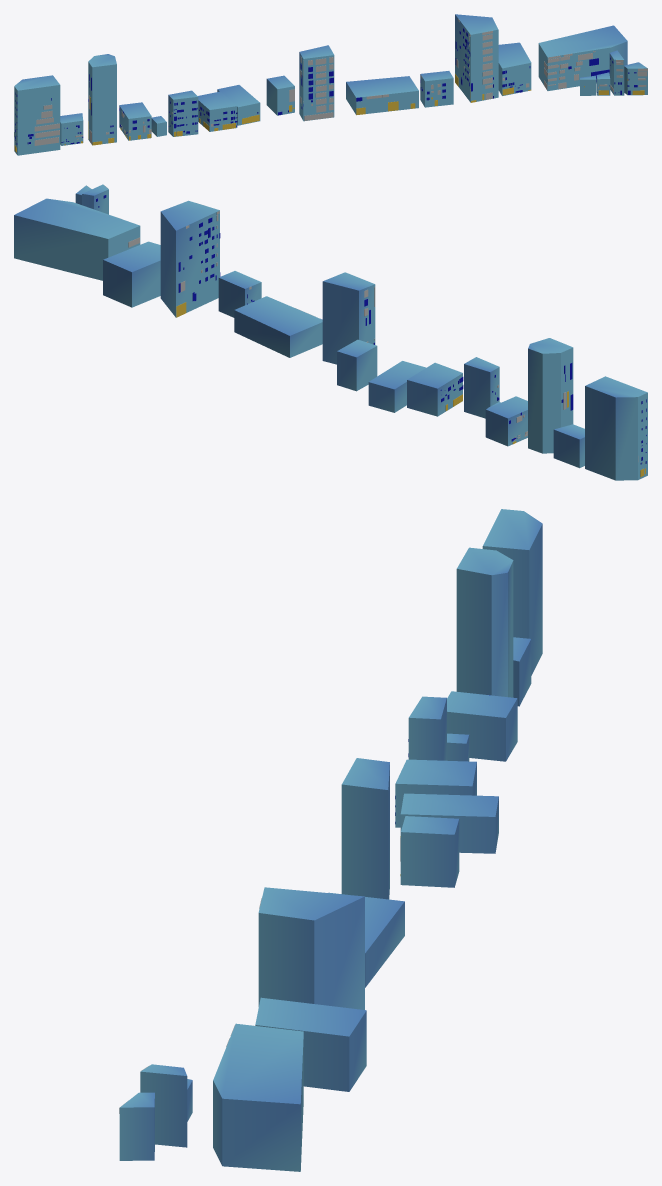
Rendered from akabane_lod3_route1.obj.
The picture shows the model from 3 angles, top to bottom: view 1: azimuth 30°, elevation 25°; view 2: azimuth 150°, elevation 25°; view 3: azimuth 270°, elevation 25°; orthographic projection. The views are drawn at different scales.
Visible parts, largest first — view 1: akabane_lod3_test_bldg_data_4_rev.551, akabane_lod3_test_bldg_data_4_rev.470, akabane_lod3_test_bldg_data_4_rev.188, akabane_lod3_test_bldg_data_4_rev.254, akabane_lod3_test_bldg_data_4_rev.445, akabane_lod3_test_bldg_data_4_rev.409, akabane_lod3_test_bldg_data_4_rev.528, akabane_lod3_test_bldg_data_4_rev.306, akabane_lod3_test_bldg_data_4_rev.357, akabane_lod3_test_bldg_data_4_rev.452, akabane_lod3_test_bldg_data_4_rev.274, akabane_lod3_test_bldg_data_4_rev.403 (+7 smaller); view 2: akabane_lod3_test_bldg_data_4_rev.551, akabane_lod3_test_bldg_data_4_rev.188, akabane_lod3_test_bldg_data_4_rev.470, akabane_lod3_test_bldg_data_4_rev.254, akabane_lod3_test_bldg_data_4_rev.409, akabane_lod3_test_bldg_data_4_rev.445, akabane_lod3_test_bldg_data_4_rev.528, akabane_lod3_test_bldg_data_4_rev.357, akabane_lod3_test_bldg_data_4_rev.306, akabane_lod3_test_bldg_data_4_rev.403, akabane_lod3_test_bldg_data_4_rev.399, akabane_lod3_test_bldg_data_4_rev.274 (+3 smaller); view 3: akabane_lod3_test_bldg_data_4_rev.551, akabane_lod3_test_bldg_data_4_rev.470, akabane_lod3_test_bldg_data_4_rev.254, akabane_lod3_test_bldg_data_4_rev.409, akabane_lod3_test_bldg_data_4_rev.528, akabane_lod3_test_bldg_data_4_rev.188, akabane_lod3_test_bldg_data_4_rev.403, akabane_lod3_test_bldg_data_4_rev.274, akabane_lod3_test_bldg_data_4_rev.399, akabane_lod3_test_bldg_data_4_rev.578, akabane_lod3_test_bldg_data_4_rev.357, akabane_lod3_test_bldg_data_4_rev.445 (+3 smaller).
Boxes of the visible parts, x1=… form: akabane_lod3_test_bldg_data_4_rev.551: x1=538, y1=25, x2=627, y2=90; akabane_lod3_test_bldg_data_4_rev.470: x1=455, y1=14, x2=498, y2=102; akabane_lod3_test_bldg_data_4_rev.188: x1=14, y1=75, x2=60, y2=155; akabane_lod3_test_bldg_data_4_rev.254: x1=88, y1=54, x2=116, y2=144; akabane_lod3_test_bldg_data_4_rev.445: x1=346, y1=76, x2=418, y2=114; akabane_lod3_test_bldg_data_4_rev.409: x1=299, y1=45, x2=334, y2=121; akabane_lod3_test_bldg_data_4_rev.528: x1=498, y1=42, x2=531, y2=95; akabane_lod3_test_bldg_data_4_rev.306: x1=168, y1=90, x2=198, y2=136; akabane_lod3_test_bldg_data_4_rev.357: x1=198, y1=91, x2=237, y2=131; akabane_lod3_test_bldg_data_4_rev.452: x1=420, y1=71, x2=453, y2=107; akabane_lod3_test_bldg_data_4_rev.274: x1=119, y1=102, x2=151, y2=140; akabane_lod3_test_bldg_data_4_rev.403: x1=266, y1=75, x2=294, y2=115; akabane_lod3_test_bldg_data_4_rev.551: x1=14, y1=198, x2=140, y2=280; akabane_lod3_test_bldg_data_4_rev.188: x1=585, y1=376, x2=647, y2=480; akabane_lod3_test_bldg_data_4_rev.470: x1=160, y1=200, x2=219, y2=317; akabane_lod3_test_bldg_data_4_rev.254: x1=528, y1=338, x2=573, y2=453; akabane_lod3_test_bldg_data_4_rev.409: x1=322, y1=272, x2=375, y2=364; akabane_lod3_test_bldg_data_4_rev.445: x1=234, y1=296, x2=322, y2=357; akabane_lod3_test_bldg_data_4_rev.528: x1=103, y1=241, x2=160, y2=307; akabane_lod3_test_bldg_data_4_rev.357: x1=407, y1=362, x2=462, y2=416; akabane_lod3_test_bldg_data_4_rev.306: x1=464, y1=357, x2=499, y2=418; akabane_lod3_test_bldg_data_4_rev.403: x1=337, y1=339, x2=377, y2=391; akabane_lod3_test_bldg_data_4_rev.399: x1=368, y1=361, x2=425, y2=412; akabane_lod3_test_bldg_data_4_rev.274: x1=485, y1=396, x2=527, y2=446; akabane_lod3_test_bldg_data_4_rev.551: x1=213, y1=1023, x2=303, y2=1171; akabane_lod3_test_bldg_data_4_rev.470: x1=258, y1=887, x2=364, y2=1009; akabane_lod3_test_bldg_data_4_rev.254: x1=456, y1=547, x2=513, y2=697; akabane_lod3_test_bldg_data_4_rev.409: x1=341, y1=758, x2=389, y2=899; akabane_lod3_test_bldg_data_4_rev.528: x1=255, y1=997, x2=366, y2=1091; akabane_lod3_test_bldg_data_4_rev.188: x1=482, y1=509, x2=542, y2=675; akabane_lod3_test_bldg_data_4_rev.403: x1=400, y1=816, x2=459, y2=887; akabane_lod3_test_bldg_data_4_rev.274: x1=447, y1=691, x2=517, y2=761; akabane_lod3_test_bldg_data_4_rev.399: x1=400, y1=793, x2=498, y2=853; akabane_lod3_test_bldg_data_4_rev.578: x1=140, y1=1064, x2=187, y2=1147; akabane_lod3_test_bldg_data_4_rev.357: x1=395, y1=759, x2=476, y2=827; akabane_lod3_test_bldg_data_4_rev.445: x1=329, y1=892, x2=404, y2=987.
Size of what is drawn, in the model's own units: 249 by 34.08 by 83.7.
